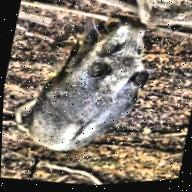boar: (13, 0, 166, 168)
